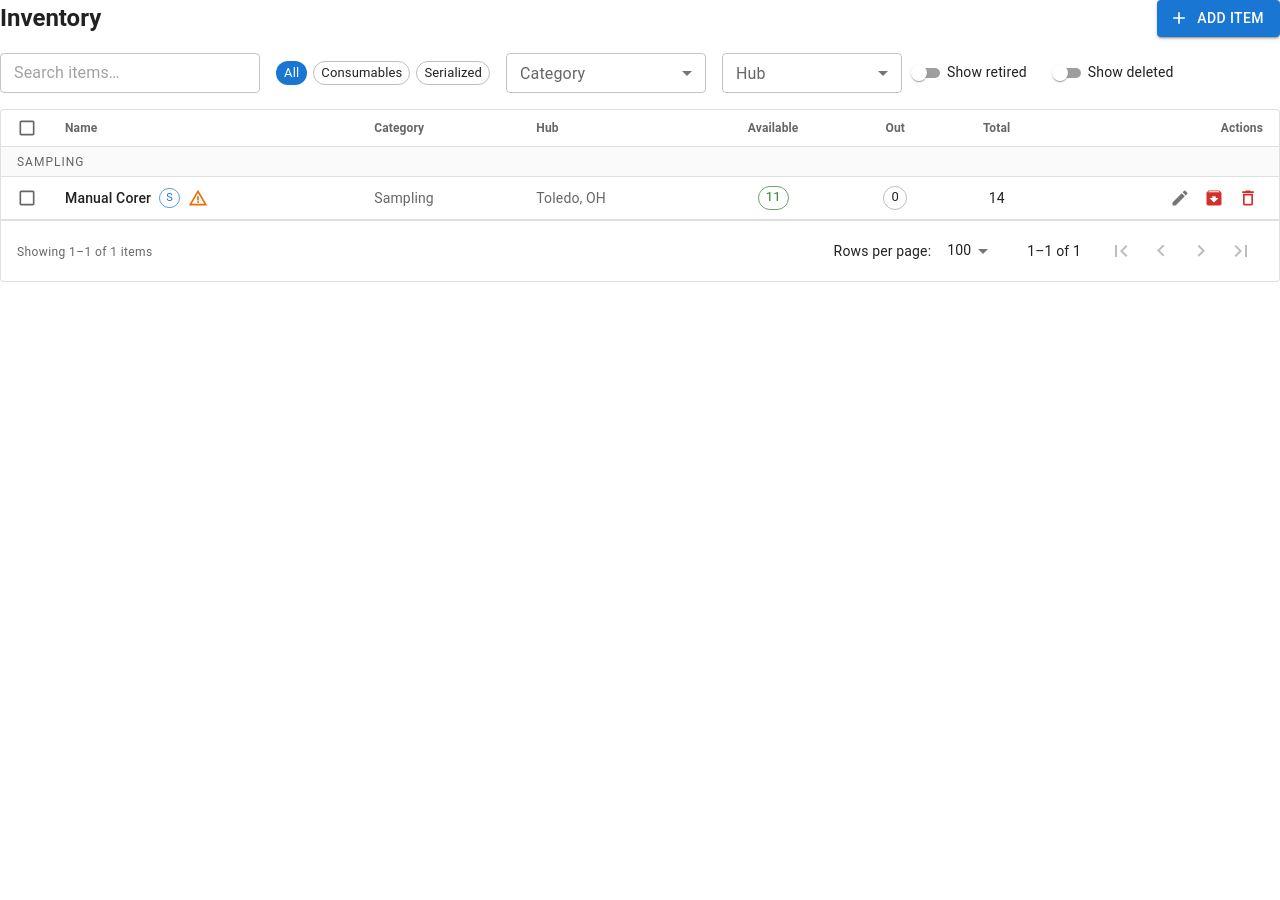
Test case: PR-2 · the inventory page reads itemCounts › edit form: the count is owned (14), not the stored quantity
Check: the text "Manual Corer" is shown, box [65,188,151,208]
Click the button named "Edit" at (1180, 198), box [1165,183,1195,213]
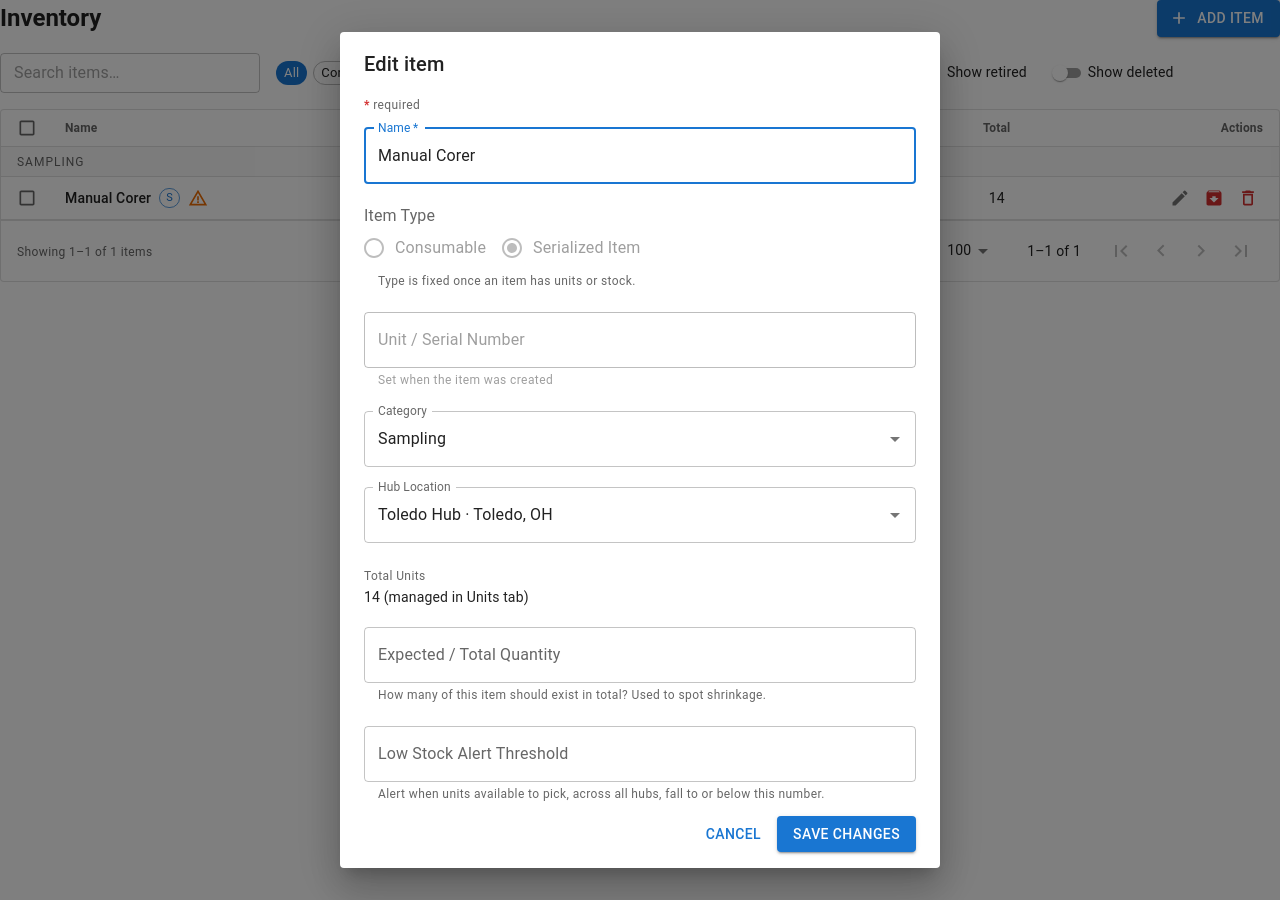
Check: the text "14 (managed in Units tab)" is shown, box [364,589,529,605]
